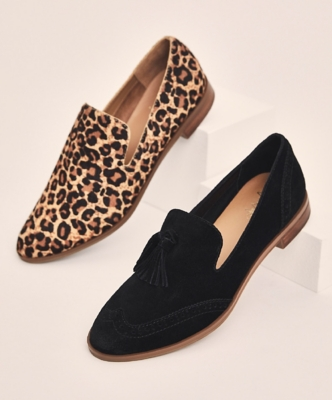shoe: (86, 128, 318, 365), (10, 21, 216, 263)
